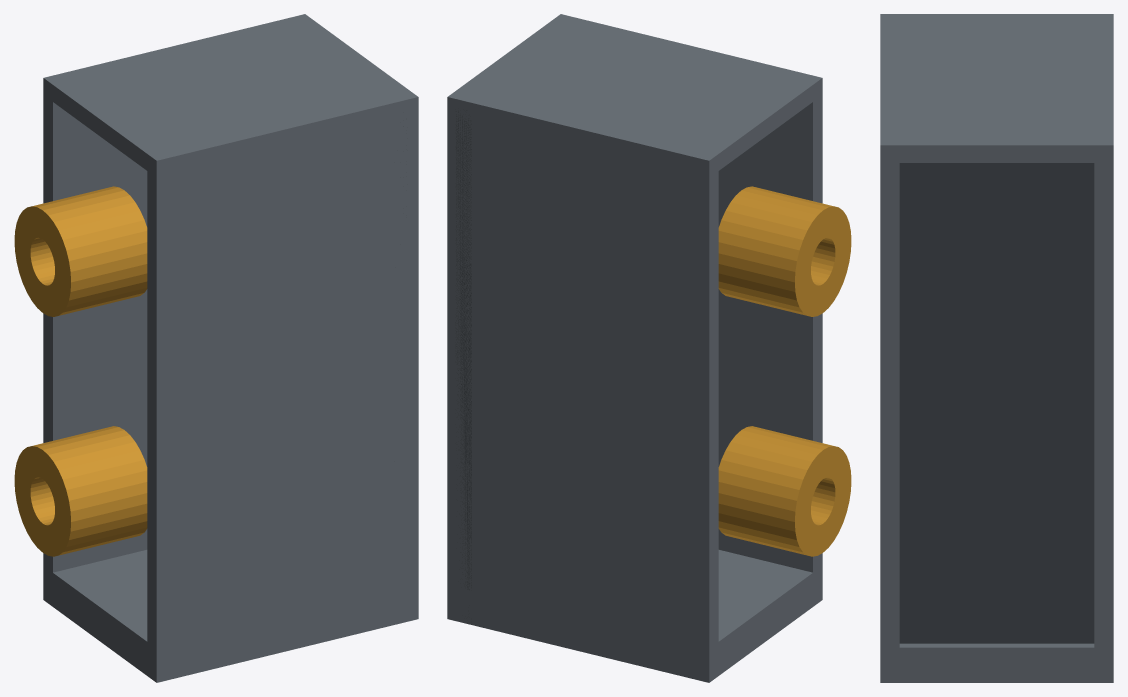
Rendered from L32_ANTENNA.fbx.
3 renders of one model, left to right at view 1: azimuth 30°, elevation 25°; view 2: azimuth 150°, elevation 25°; view 3: azimuth 270°, elevation 25°, orthographic. The views are drawn at different scales.
Visible parts, largest first — view 1: ANTENNA_Steel, ANTENNA_Gold; view 2: ANTENNA_Steel, ANTENNA_Gold, ANTENNA_Gray; view 3: ANTENNA_Gray, ANTENNA_Steel.
Part boxes in pixels (x1,y1,x2,y2): ANTENNA_Steel: (43,14,418,682); ANTENNA_Gold: (14,186,147,556); ANTENNA_Steel: (447,14,822,682); ANTENNA_Gold: (718,186,851,556); ANTENNA_Gray: (455,110,471,589); ANTENNA_Gray: (899,163,1094,643); ANTENNA_Steel: (880,14,1113,682).
Size of the model in its own units: 1.95 by 3.05 by 1.2.
